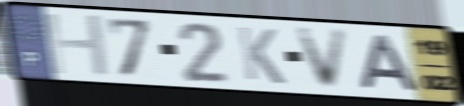2: (175, 19, 233, 86)
7: (106, 15, 156, 80)
A: (355, 32, 423, 93)
H: (41, 12, 114, 77)
K: (234, 24, 288, 87)
V: (292, 26, 352, 91)
